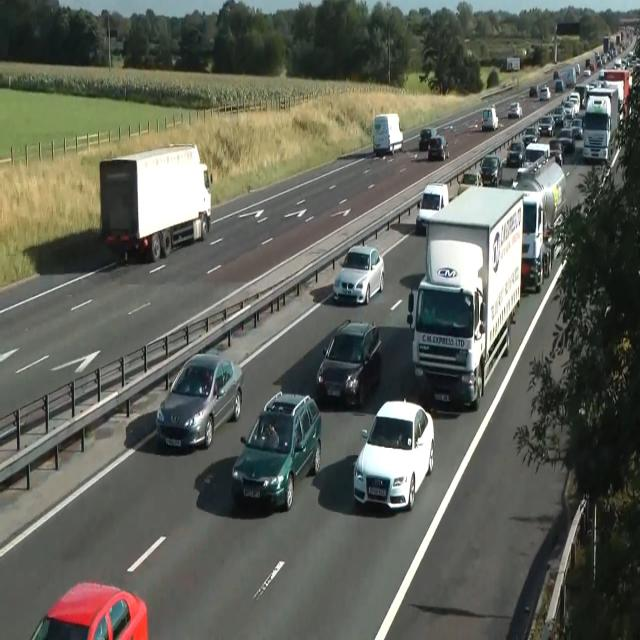bus: (232, 390, 322, 511), (352, 397, 434, 512), (156, 352, 243, 451), (30, 581, 148, 639), (332, 243, 384, 305), (479, 154, 503, 186), (427, 134, 449, 160), (556, 127, 576, 152), (506, 140, 525, 166), (418, 127, 438, 150), (536, 115, 556, 137), (521, 125, 539, 146), (549, 140, 563, 166), (568, 118, 584, 140), (550, 106, 566, 127), (562, 100, 576, 118), (508, 102, 522, 118), (538, 84, 550, 100), (555, 79, 563, 93), (529, 85, 537, 97), (583, 68, 591, 76), (553, 70, 559, 79), (576, 63, 580, 74)
jeep: (316, 318, 382, 407), (416, 181, 448, 235), (480, 105, 498, 131)
minibus: (406, 184, 524, 409), (99, 142, 212, 263), (511, 156, 567, 238), (517, 190, 553, 292), (582, 84, 620, 162), (599, 68, 630, 118), (373, 112, 403, 156), (506, 57, 520, 71)
